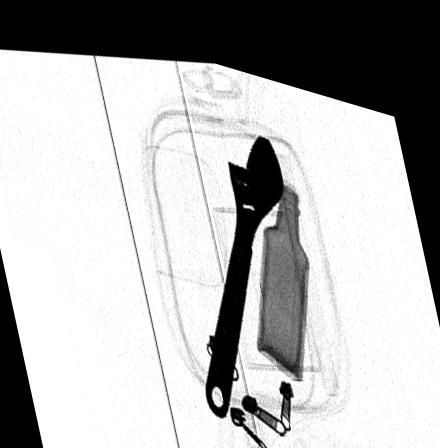Wrench: (201, 118, 285, 407)
